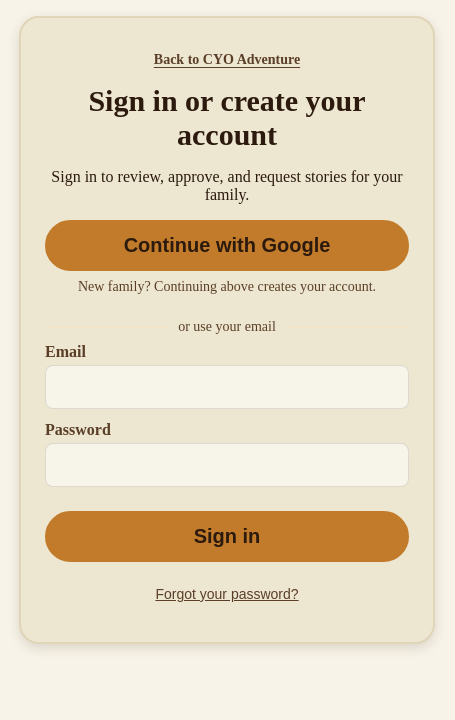
Scenario: LoginPage password form › shows a connection error (not a credentials error) for an operational failure
Type "parent@example.com" into the field labelled "Email".
click(227, 387); type("parent@example.com")  # box [45,365,409,409]
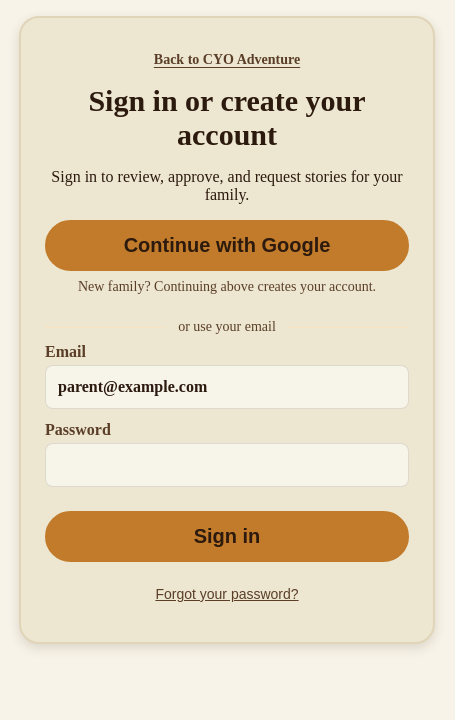
Type "test-password" into the password field labelled "Password".
click(227, 465); type("test-password")  # box [45,443,409,487]
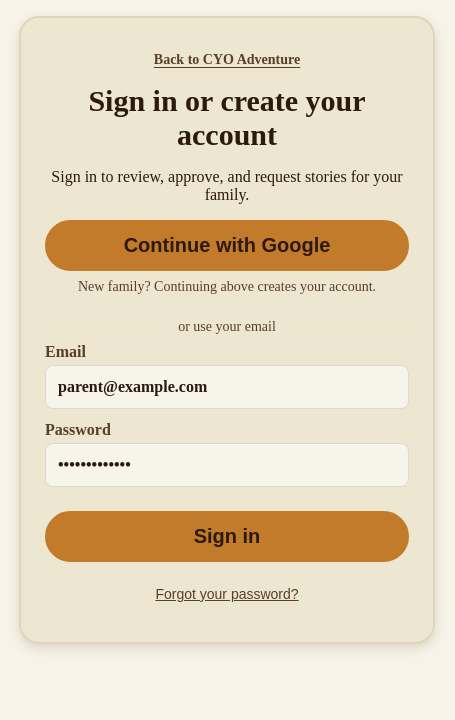
Click the button "Sign in".
click(227, 536)  # box [45,511,409,562]
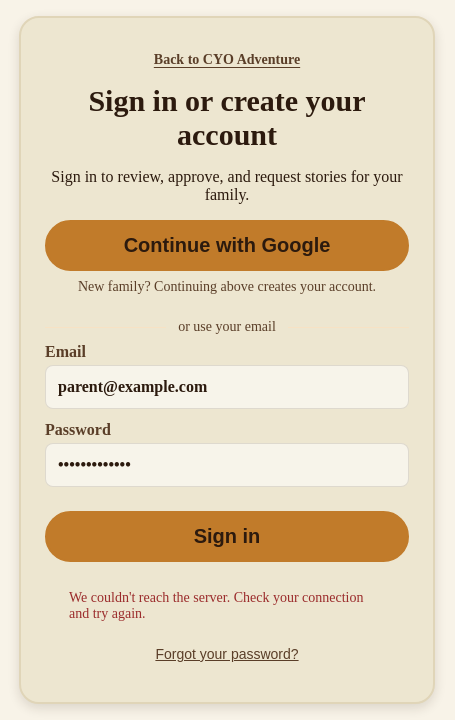
Expected: the message does not show "didn't match", [69,590,385,622]
Expected: the message shows "couldn't reach the server", [69,590,364,621]
